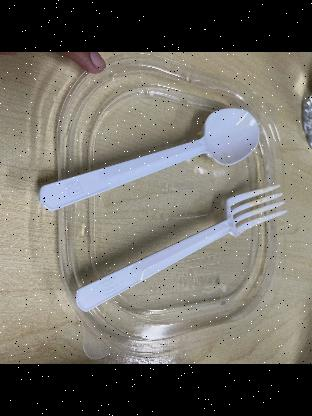Others: (36, 88, 262, 240), (73, 171, 281, 321)
